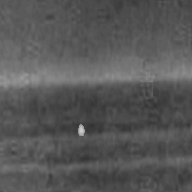Target: (77, 122, 86, 137)
